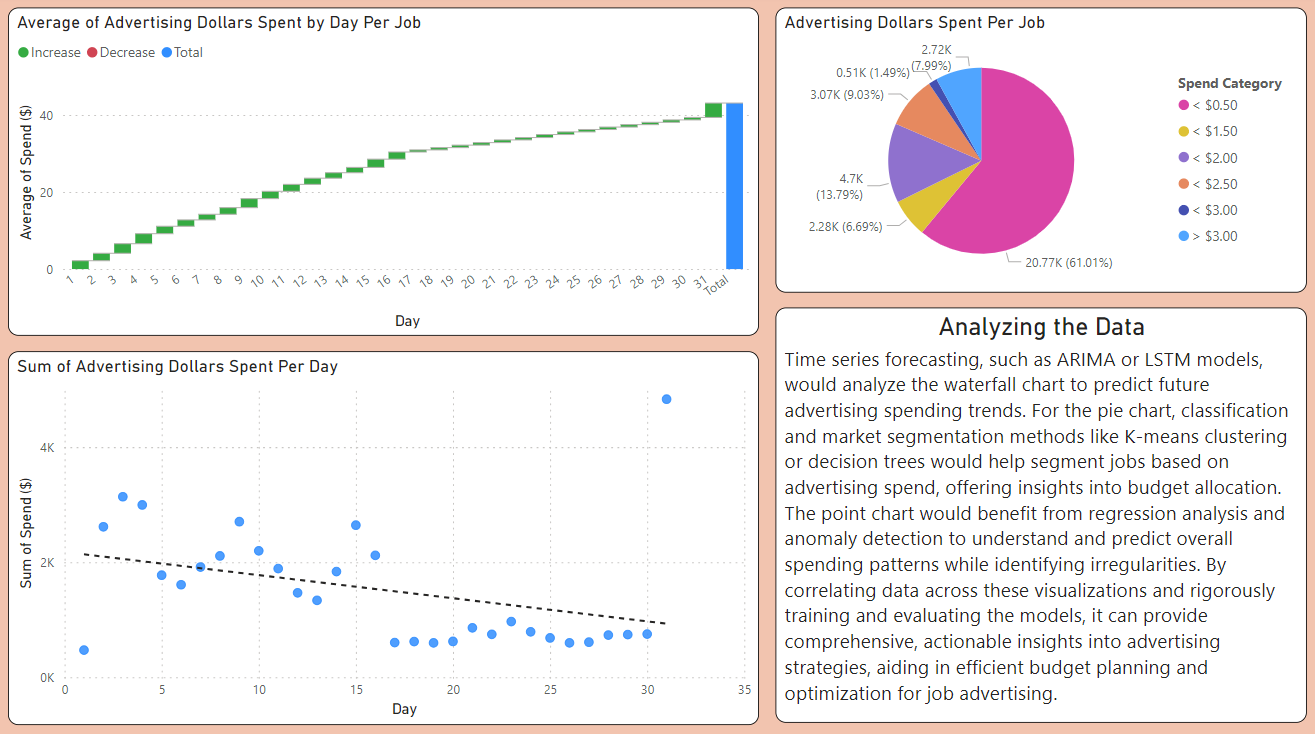

What the dashboard file says about the page in this screenshot:
{"tool":"powerbi","page":{"name":"Spend","canvas":[1280,720],"ordinal":1},"visuals":[{"type":"scatterChart","title":"Sum of Advertising Dollars Spent Per Day","fields":{"X":["Job Cloud Output.Date.Variation.Date Hierarchy.Day"],"Y":["Sum(Job Cloud Output.Spend)"]},"box":[14.5,343.7,724.8,360.6],"z":0},{"type":"waterfallChart","title":"Average of Advertising Dollars Spent by Day Per Job","fields":{"Y":["Avg(Job Cloud Output.Spend)"],"Category":["Job Cloud Output.Date.Variation.Date Hierarchy.Day"]},"box":[14.5,12.1,724.8,317.2],"z":1000},{"type":"pieChart","title":"Advertising Dollars Spent Per Job","fields":{"Category":["Job Cloud Output.Spend Category"],"Y":["CountNonNull(Job Cloud Output.Spend Category)"]},"box":[755,12.1,512.6,275],"z":2000},{"type":"textbox","title":"Analyzing the Data","box":[755,301.5,512.6,400.4],"z":2001}]}

Visuals, with their boxes in screenshot pixels (x1, y1, x2, y2), scaled from the page's 1280x720 canvas onto the 1315x734 screenshot:
"Sum of Advertising Dollars Spent Per Day" scatterChart: 15/350/760/718
"Average of Advertising Dollars Spent by Day Per Job" waterfallChart: 15/12/760/336
"Advertising Dollars Spent Per Job" pieChart: 776/12/1302/293
"Analyzing the Data" textbox: 776/307/1302/716
